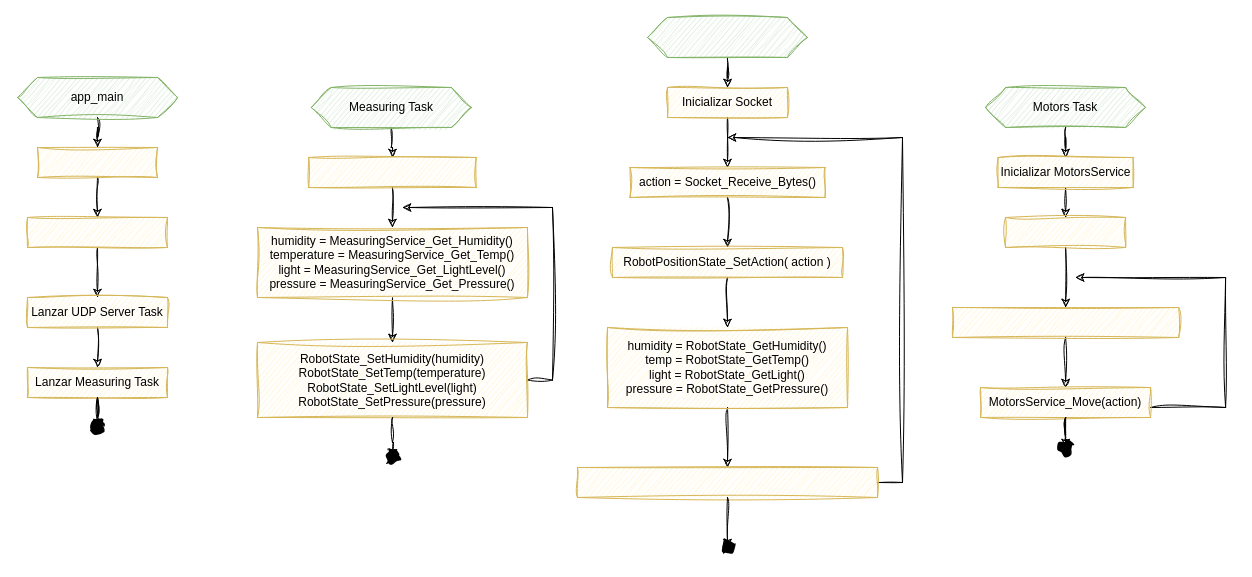
Some shapes in this 1252 by 577 pixel diagram are drawn without their labels. The centre of each missing label's shape, as x and y in pixels:
action = RobotPositionState_GetAction(): point (1065, 322)
Config Duty Cicle: point (1065, 232)
Config WiFi Service Config ADC Service: point (97, 162)
Inicializar MeasuringService: point (392, 172)
Lanzar Motors Task: point (97, 232)
Socket_Send_Bytes( humidity , temp , light, pressure): point (727, 482)
UDP Server Task: point (727, 37)
